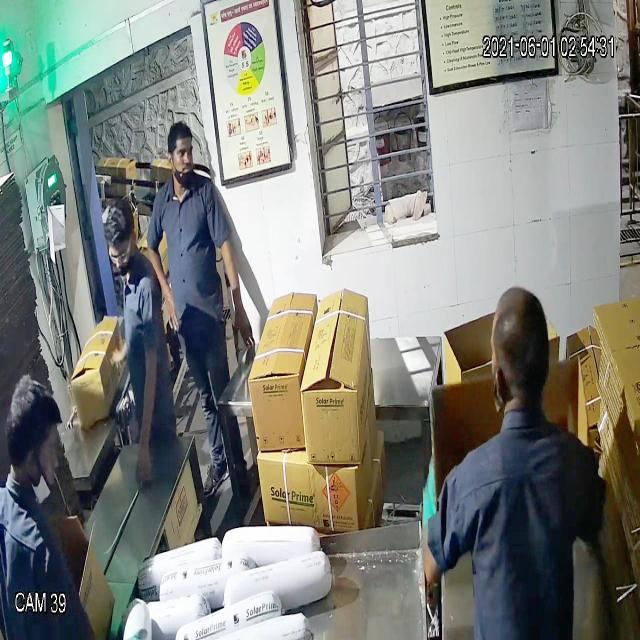glasses: (104, 233, 141, 274)
